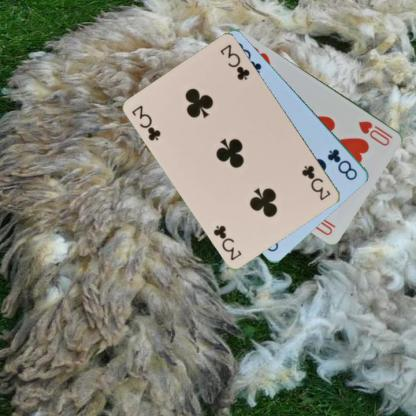10h: (356, 118, 395, 147)
3c: (130, 102, 164, 142), (300, 162, 332, 202)
8c: (325, 146, 359, 182)
